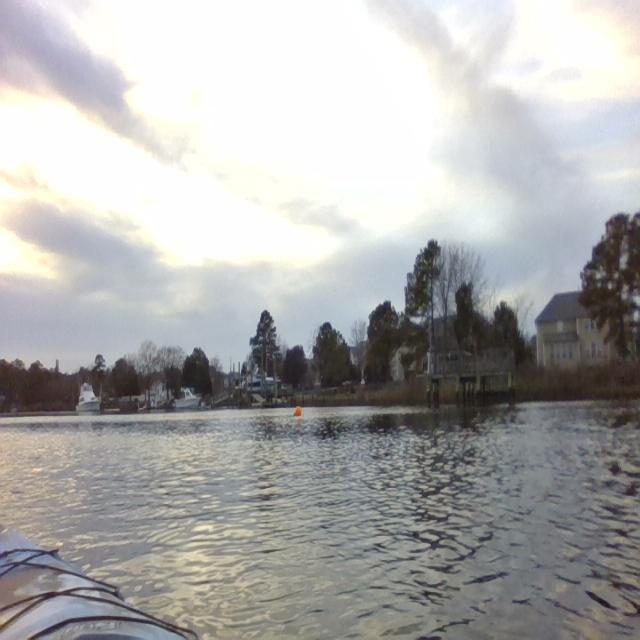Buoy: (294, 400, 304, 427)
